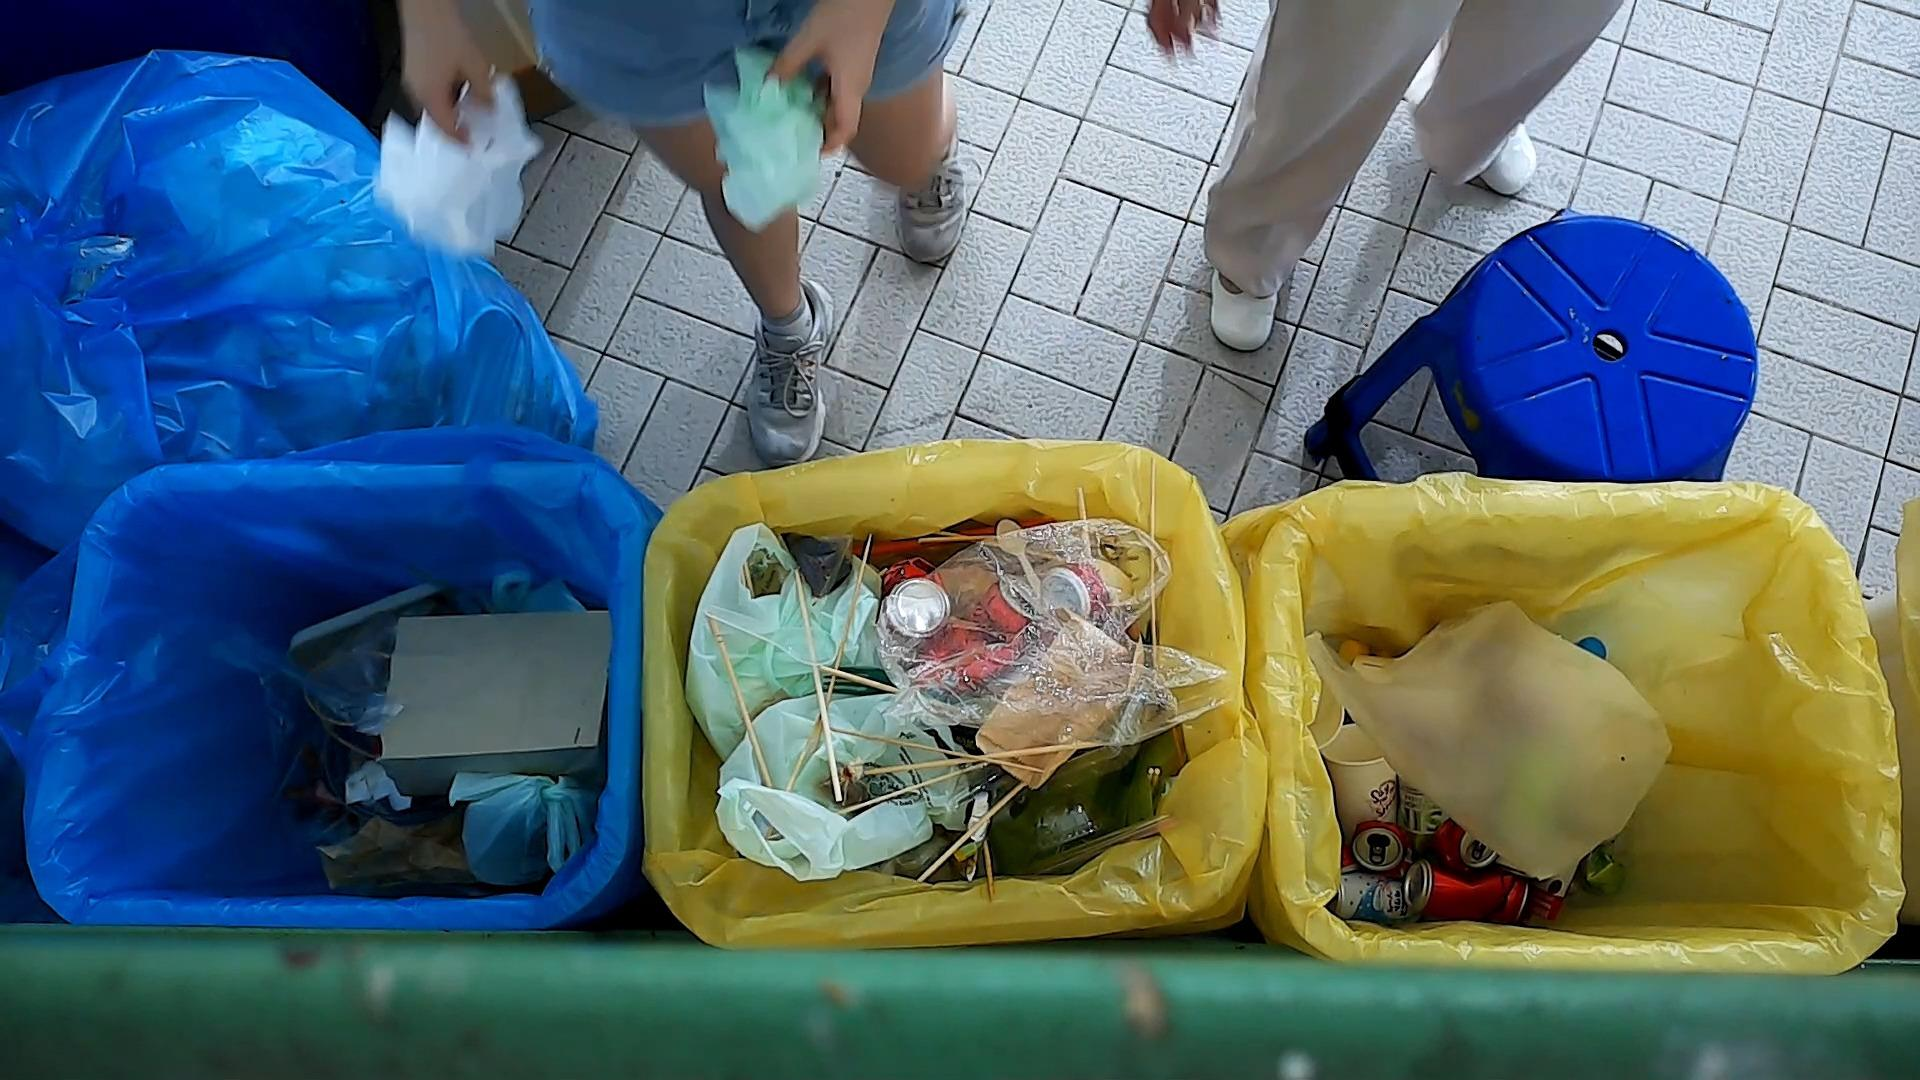can: (913, 574, 1051, 698), (1398, 852, 1535, 924), (873, 553, 955, 646), (1329, 870, 1424, 926), (1035, 560, 1110, 629), (1348, 815, 1423, 882), (1432, 816, 1499, 881)
filled plastic bag: (678, 517, 907, 760), (443, 767, 604, 891)
paper bag: (299, 603, 615, 802), (976, 601, 1149, 793), (310, 811, 472, 895)
plastic bag: (1302, 596, 1679, 886), (872, 513, 1246, 758), (709, 683, 982, 897), (369, 62, 549, 264), (698, 37, 840, 240), (247, 607, 413, 750)
plastic cutlery: (698, 599, 839, 670), (992, 514, 1048, 600)
sticks: (811, 529, 878, 757), (915, 774, 1031, 886), (704, 607, 774, 791), (791, 567, 841, 804), (827, 723, 1051, 775), (865, 740, 1108, 778), (839, 758, 993, 816), (1145, 451, 1166, 694), (785, 707, 823, 796)
zero waste cup: (1316, 720, 1402, 841)
